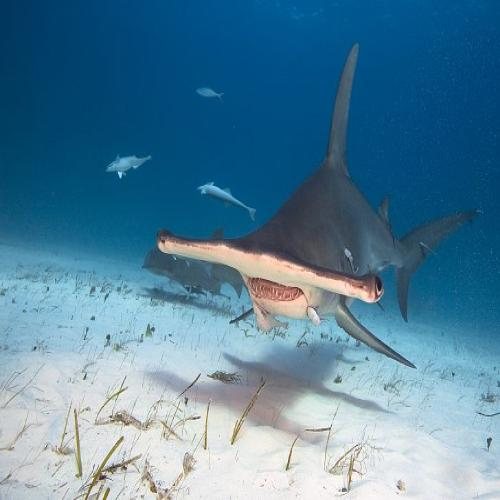shark-endangered: (156, 44, 480, 370)
